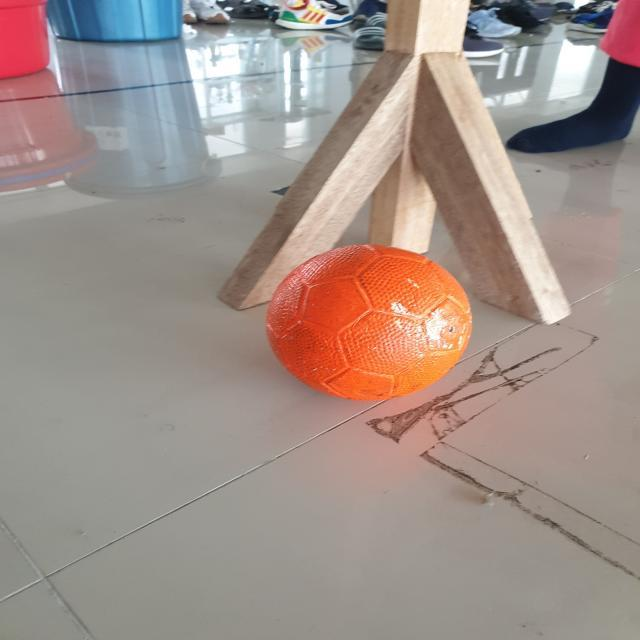bola: (258, 240, 478, 411)
